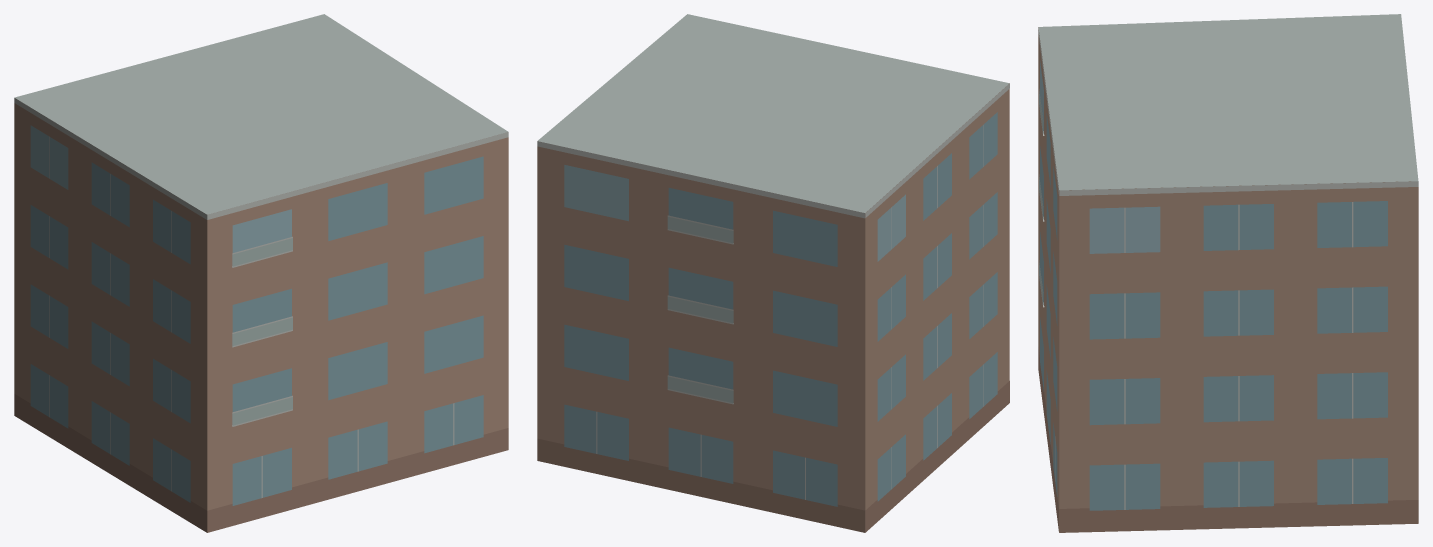
Rendered from survey-upis-32747103.glb.
3 views of the same model, side by side, from view 1: azimuth 30°, elevation 25°; view 2: azimuth 150°, elevation 25°; view 3: azimuth 270°, elevation 25° (orthographic). The views are drawn at different scales.
Parts seen in each view (by area): view 1: survey-upis-32747103.tmp; view 2: survey-upis-32747103.tmp; view 3: survey-upis-32747103.tmp.
Part boxes in pixels (x1,y1,x2,y2): survey-upis-32747103.tmp: [14, 14, 508, 532]; survey-upis-32747103.tmp: [537, 14, 1009, 532]; survey-upis-32747103.tmp: [1038, 14, 1418, 532].
Size of the model in its own units: 16.24 by 14.7 by 14.79.
